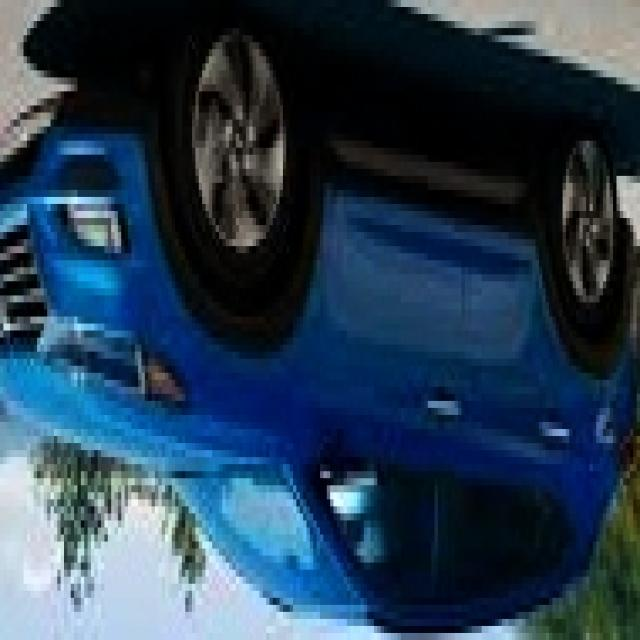blue: (1, 28, 636, 638)
